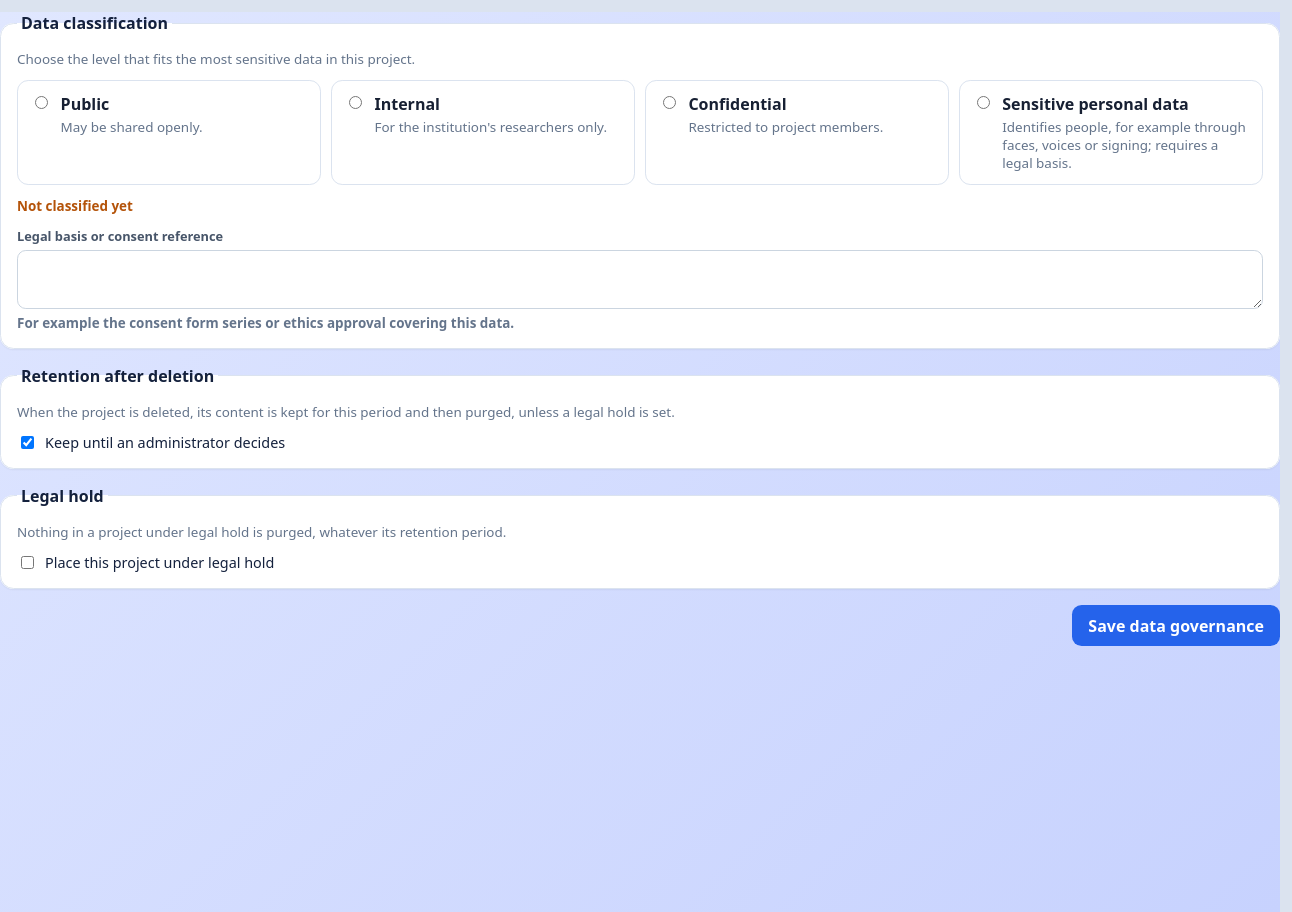
Test: ConfigureDataGovernance › requires a legal basis before sensitive personal data can be saved
Click the 4th radio button: coordinates (983, 102) [977,96,990,109]
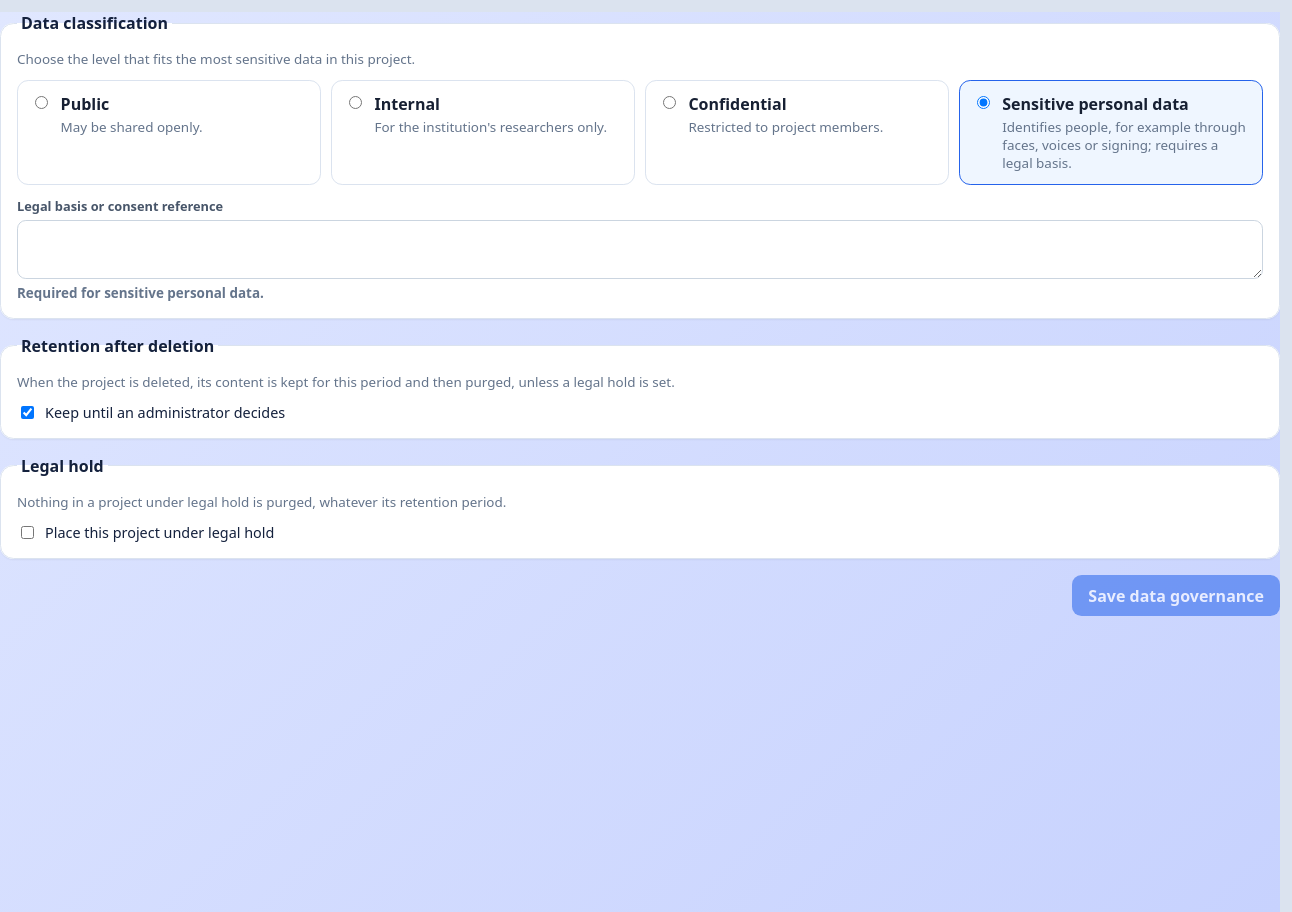
Now the submit button is disabled, box [1072,575,1280,616]
In the text box: coordinates (640, 250) [17,220,1263,279], type "  Consent series LSFB-2026  "
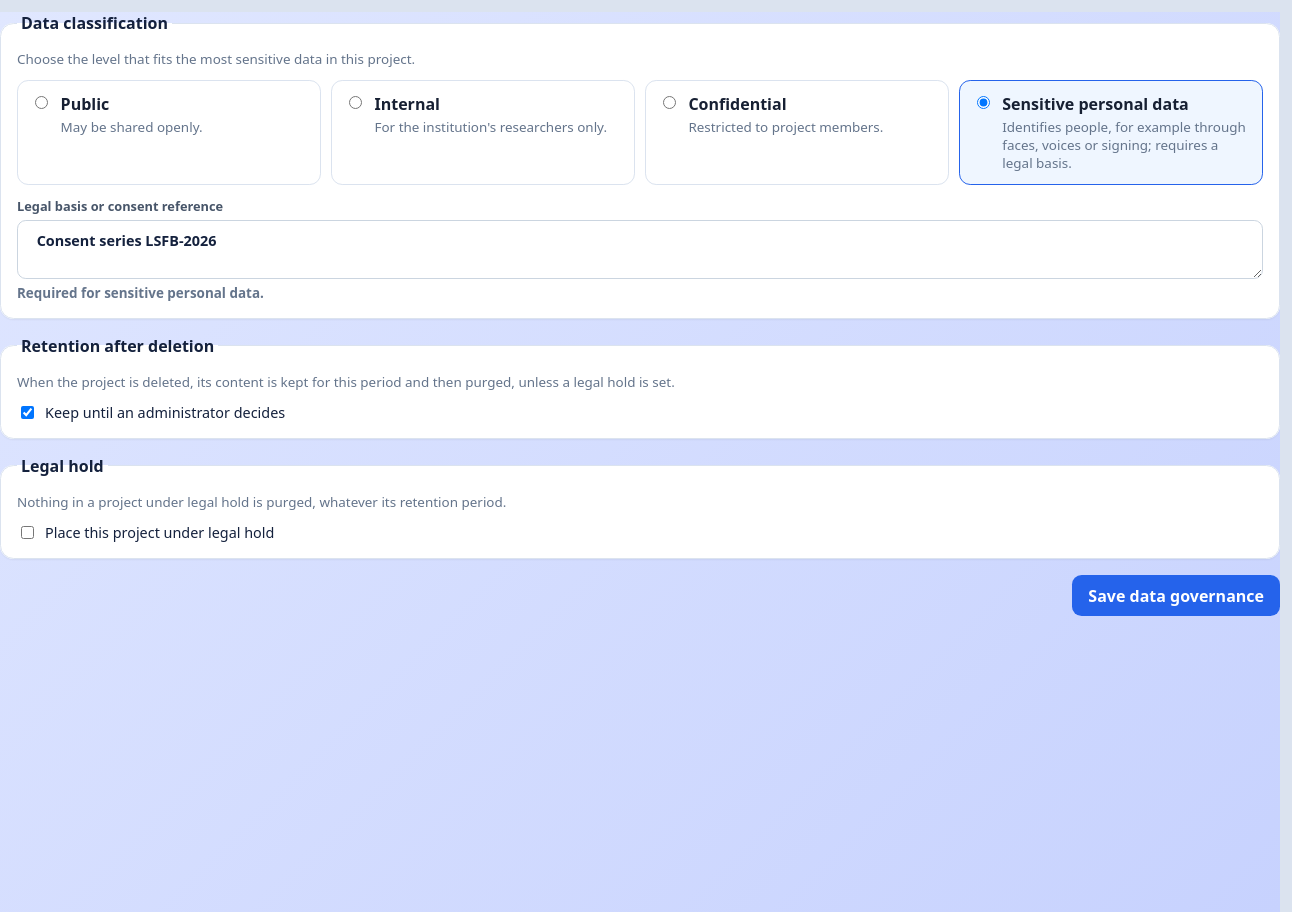
Now the submit button is enabled, box [1072,575,1280,616]
